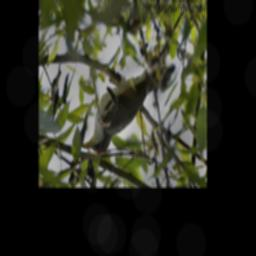Cuckoo: (80, 11, 183, 155)
